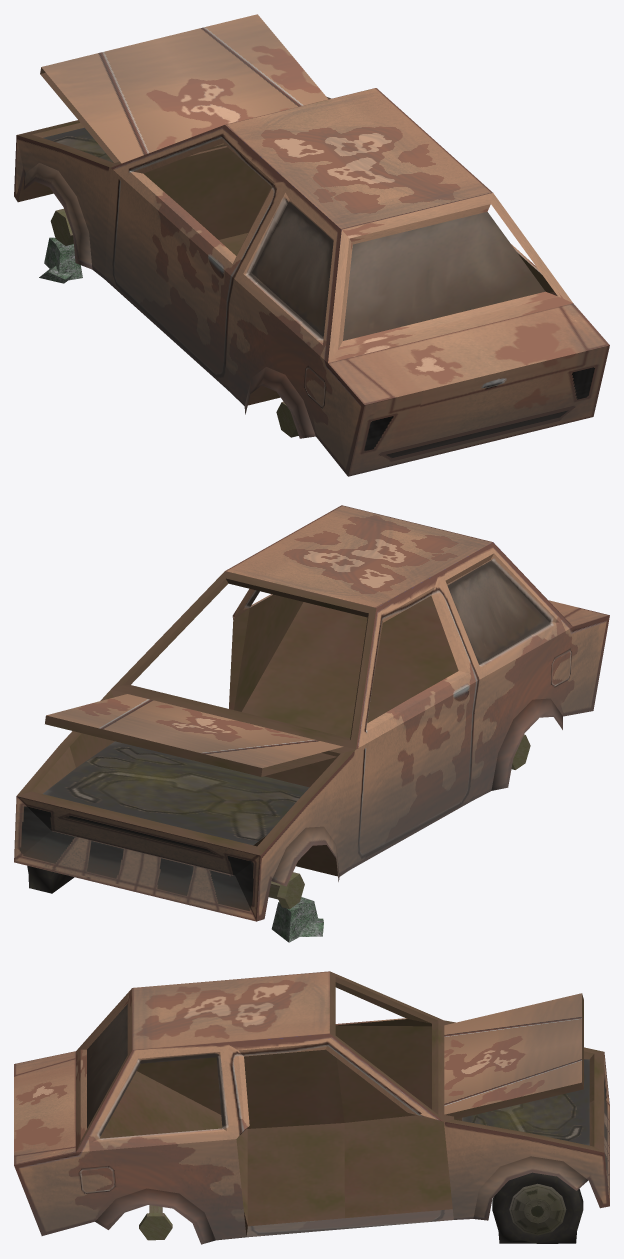
The model's file is carro_abandonado.fbx.
3 renders of one model, top to bottom at view 1: azimuth 30°, elevation 25°; view 2: azimuth 150°, elevation 25°; view 3: azimuth 270°, elevation 25°, orthographic. The views are drawn at different scales.
Visible parts, largest first — view 1: Cube; view 2: Cube; view 3: Cube.
Part boxes in pixels (box(x1,y1,x2,y2)): Cube: box(14, 14, 609, 476); Cube: box(14, 505, 609, 942); Cube: box(14, 971, 609, 1244).
Size of the model in its own units: 142 by 112 by 317.
